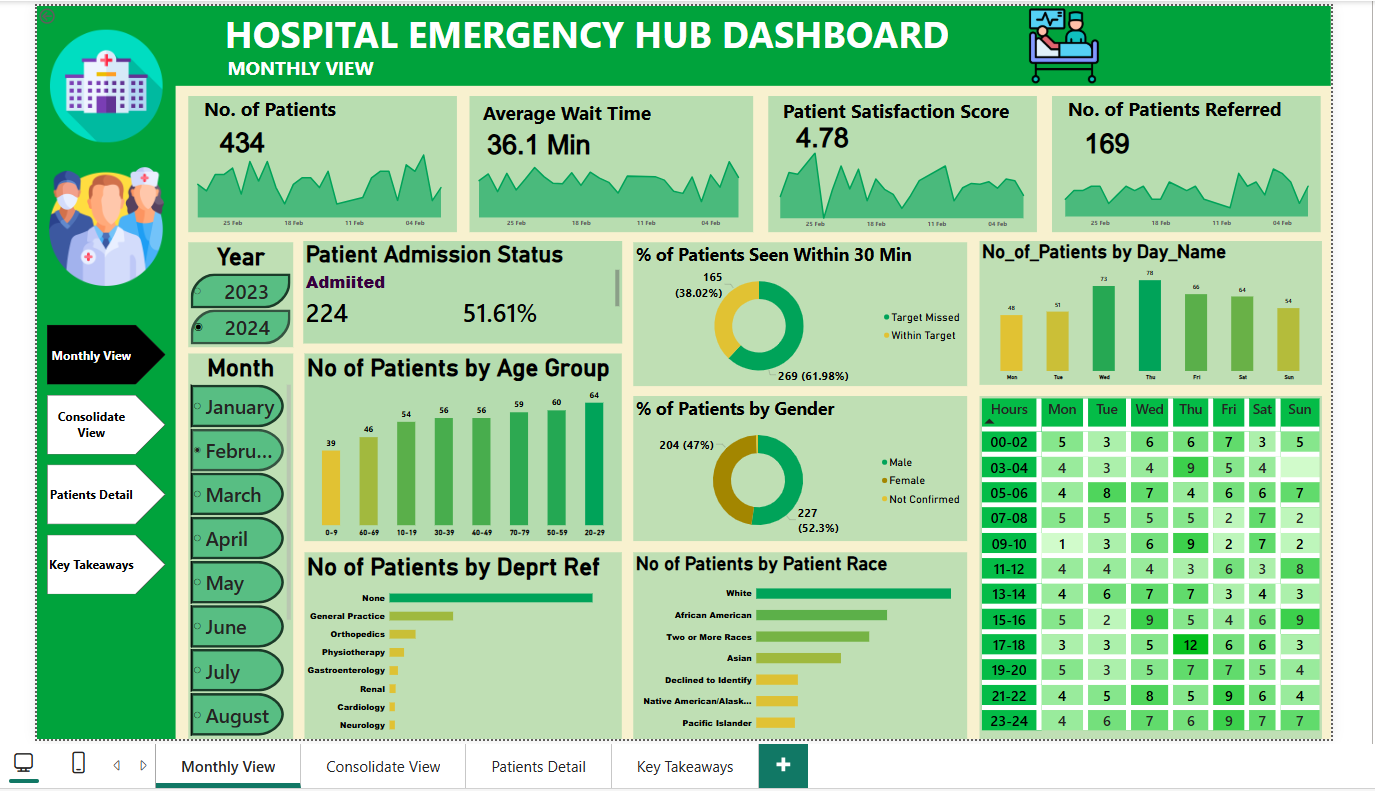

The dashboard page shown, as its layout file describes it:
{"tool":"powerbi","page":{"name":"Monthly View","canvas":[2555,1448],"ordinal":0},"visuals":[{"type":"multiRowCard","title":"Patient Admission Status","fields":{"Values":["Hospitals Data.Admission_Status","Hospitals Data.No_of_Patients","Divide(Hospitals Data.No_of_Patients, ScopedEval(Hospitals Data.No_of_Patients, []))"]},"box":[525.6,463.9,629.2,202.3],"z":0},{"type":"shape","box":[0,0,273.9,1448.5],"z":1000},{"type":"shape","box":[0,0,2554,157.9],"z":2000},{"type":"textbox","box":[310.9,0,1549.7,118.4],"z":3000},{"type":"shape","box":[298.6,177.7,530.5,269],"z":4000},{"type":"card","fields":{"Values":["Hospitals Data.No_of_Patients"]},"box":[293.6,219.6,224.6,93.8],"z":5000},{"type":"listSlicer","fields":{"Values":["Date_Table.Month"]},"box":[298.6,686,207.3,762.5],"z":6000},{"type":"listSlicer","fields":{"Values":["Date_Table.Year"]},"box":[298.6,466.4,207.3,207.3],"z":7000},{"type":"textbox","box":[298.6,177.7,370.1,69.1],"z":8000},{"type":"stackedAreaChart","fields":{"Category":["Date_Table.Date"],"Y":["Hospitals Data.No_of_Patients"]},"box":[293.6,273.9,528.1,172.7],"z":9000},{"type":"shape","box":[853.8,177.7,560.2,269],"z":10000},{"type":"textbox","box":[848.9,185.1,370.1,69.1],"z":11000},{"type":"stackedAreaChart","fields":{"Category":["Date_Table.Date"],"Y":["Avg(Hospitals Data.Patient_Waittime)"]},"box":[848.9,273.9,560.2,172.7],"z":12000},{"type":"shape","box":[1443.6,177.7,530.5,269],"z":13000},{"type":"textbox","box":[1441.1,180.1,530.5,69.1],"z":14000},{"type":"stackedAreaChart","fields":{"Category":["Date_Table.Date"],"Y":["Hospitals Data.Satisfication_Score"]},"box":[1443.6,276.4,528.1,172.7],"z":15000},{"type":"shape","box":[2003.7,177.7,530.5,269],"z":16000},{"type":"textbox","box":[2003.7,177.7,530.5,69.1],"z":17000},{"type":"stackedAreaChart","fields":{"Category":["Date_Table.Date"],"Y":["Hospitals Data.No_of_Patience_referred"]},"box":[2006.5,274.4,527.3,171.8],"z":18000},{"type":"card","fields":{"Values":["Hospitals Data.Aver_wait_time"]},"box":[848.9,222.1,283.8,93.8],"z":19000},{"type":"card","fields":{"Values":["Hospitals Data.Satisfication_Score"]},"box":[1443.4,210,214.7,93],"z":20000},{"type":"card","fields":{"Values":["Hospitals Data.No_of_Patience_referred"]},"box":[2004.1,221.9,217.1,93],"z":21000},{"type":"clusteredColumnChart","title":"No of Patients by Age Group","fields":{"Category":["Hospitals Data.Age_Group"],"Y":["Hospitals Data.No_of_Patients"]},"box":[528.1,686,626.8,370.1],"z":22000},{"type":"textbox","box":[310.9,96.2,387.4,61.7],"z":23000},{"type":"actionButton","box":[0,0,100,40],"z":24000},{"type":"clusteredBarChart","title":"No of Patients by Deprt Ref","fields":{"Category":["Hospitals Data.Department_Referral"],"Y":["Hospitals Data.No_of_Patients"]},"box":[528.1,1078.4,626.8,370.1],"z":25000},{"type":"donutChart","title":"% of Patients Seen Within 30 Min","fields":{"Category":["Hospitals Data.Waittime_Status"],"Y":["Hospitals Data.No_of_Patients"]},"box":[1177.1,466.4,658.9,283.8],"z":26000},{"type":"donutChart","title":"% of Patients by Gender","fields":{"Category":["Hospitals Data.Patient_Gender"],"Y":["Hospitals Data.No_of_Patients"]},"box":[1177.1,769.9,658.9,286.2],"z":27000},{"type":"clusteredBarChart","title":"No of Patients by Patient Race","fields":{"Category":["Hospitals Data.Patient_Race"],"Y":["Hospitals Data.No_of_Patients"]},"box":[1177.1,1078.4,658.9,370.1],"z":28000},{"type":"pivotTable","fields":{"Rows":["Hospitals Data.Waittime_Interval"],"Columns":["Date_Table.Day_Name"],"Values":["Hospitals Data.No_of_Patients"]},"box":[1860.6,769.9,676.1,678.6],"z":29000},{"type":"columnChart","fields":{"Category":["Date_Table.Day_Name"],"Y":["Hospitals Data.No_of_Patients"]},"box":[1860.6,463.9,676.1,283.8],"z":30000},{"type":"image","box":[1887.7,0,278.8,157.9],"z":31000},{"type":"pageNavigator","box":[19.7,629.2,234.4,535.5],"z":31500},{"type":"image","box":[0,313.4,273.9,244.3],"z":32000},{"type":"image","box":[0,41.9,273.9,232],"z":33000}]}

Visuals, with their boxes on the page's 2555x1448 design canvas (x1, y1, x2, y2). These are canvas units, not pixel positions in the 1375x791 screenshot, which may show the page scaled, cropped or inside an application window:
"Patient Admission Status" multiRowCard: l=526, t=464, r=1155, b=666
shape: l=0, t=0, r=274, b=1448
shape: l=0, t=0, r=2554, b=158
textbox: l=311, t=0, r=1861, b=118
shape: l=299, t=178, r=829, b=447
card - Hospitals Data.No_of_Patients: l=294, t=220, r=518, b=313
listSlicer - Date_Table.Month: l=299, t=686, r=506, b=1448
listSlicer - Date_Table.Year: l=299, t=466, r=506, b=674
textbox: l=299, t=178, r=669, b=247
stackedAreaChart - Date_Table.Date x Hospitals Data.No_of_Patients: l=294, t=274, r=822, b=447
shape: l=854, t=178, r=1414, b=447
textbox: l=849, t=185, r=1219, b=254
stackedAreaChart - Date_Table.Date x Avg(Hospitals Data.Patient_Waittime): l=849, t=274, r=1409, b=447
shape: l=1444, t=178, r=1974, b=447
textbox: l=1441, t=180, r=1972, b=249
stackedAreaChart - Date_Table.Date x Hospitals Data.Satisfication_Score: l=1444, t=276, r=1972, b=449
shape: l=2004, t=178, r=2534, b=447
textbox: l=2004, t=178, r=2534, b=247
stackedAreaChart - Date_Table.Date x Hospitals Data.No_of_Patience_referred: l=2006, t=274, r=2534, b=446
card - Hospitals Data.Aver_wait_time: l=849, t=222, r=1133, b=316
card - Hospitals Data.Satisfication_Score: l=1443, t=210, r=1658, b=303
card - Hospitals Data.No_of_Patience_referred: l=2004, t=222, r=2221, b=315
"No of Patients by Age Group" clusteredColumnChart: l=528, t=686, r=1155, b=1056
textbox: l=311, t=96, r=698, b=158
actionButton: l=0, t=0, r=100, b=40
"No of Patients by Deprt Ref" clusteredBarChart: l=528, t=1078, r=1155, b=1448
"% of Patients Seen Within 30 Min" donutChart: l=1177, t=466, r=1836, b=750
"% of Patients by Gender" donutChart: l=1177, t=770, r=1836, b=1056
"No of Patients by Patient Race" clusteredBarChart: l=1177, t=1078, r=1836, b=1448
pivotTable - Hospitals Data.Waittime_Interval x Date_Table.Day_Name: l=1861, t=770, r=2537, b=1448
columnChart - Date_Table.Day_Name x Hospitals Data.No_of_Patients: l=1861, t=464, r=2537, b=748
image: l=1888, t=0, r=2166, b=158
pageNavigator: l=20, t=629, r=254, b=1165
image: l=0, t=313, r=274, b=558
image: l=0, t=42, r=274, b=274
